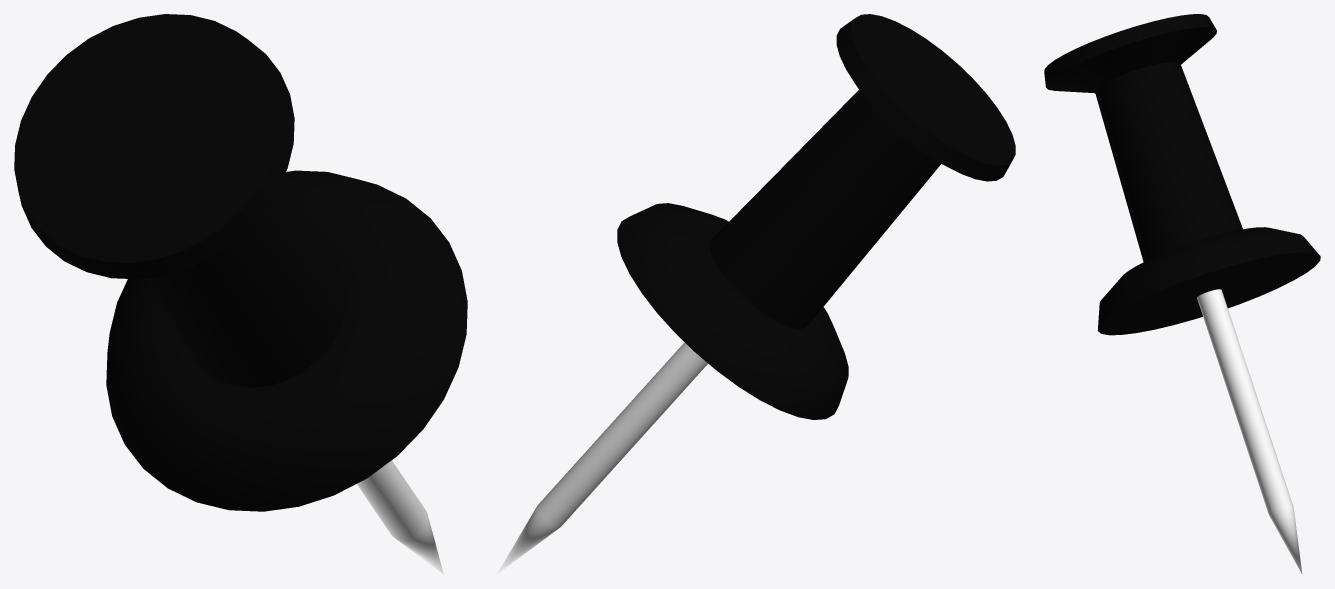
Rendered from CorkPin.fbx.
3 views of the same model, side by side, from view 1: azimuth 30°, elevation 25°; view 2: azimuth 150°, elevation 25°; view 3: azimuth 270°, elevation 25° (orthographic). The views are drawn at different scales.
Parts seen in each view (by area): view 1: pin; view 2: pin; view 3: pin.
Part boxes in pixels (left/top/right/bottom): pin: left=14, top=14, right=467, bottom=574; pin: left=496, top=14, right=1015, bottom=574; pin: left=1044, top=14, right=1320, bottom=573.
Bounding box in the file's own units: 330 × 425 × 238.
